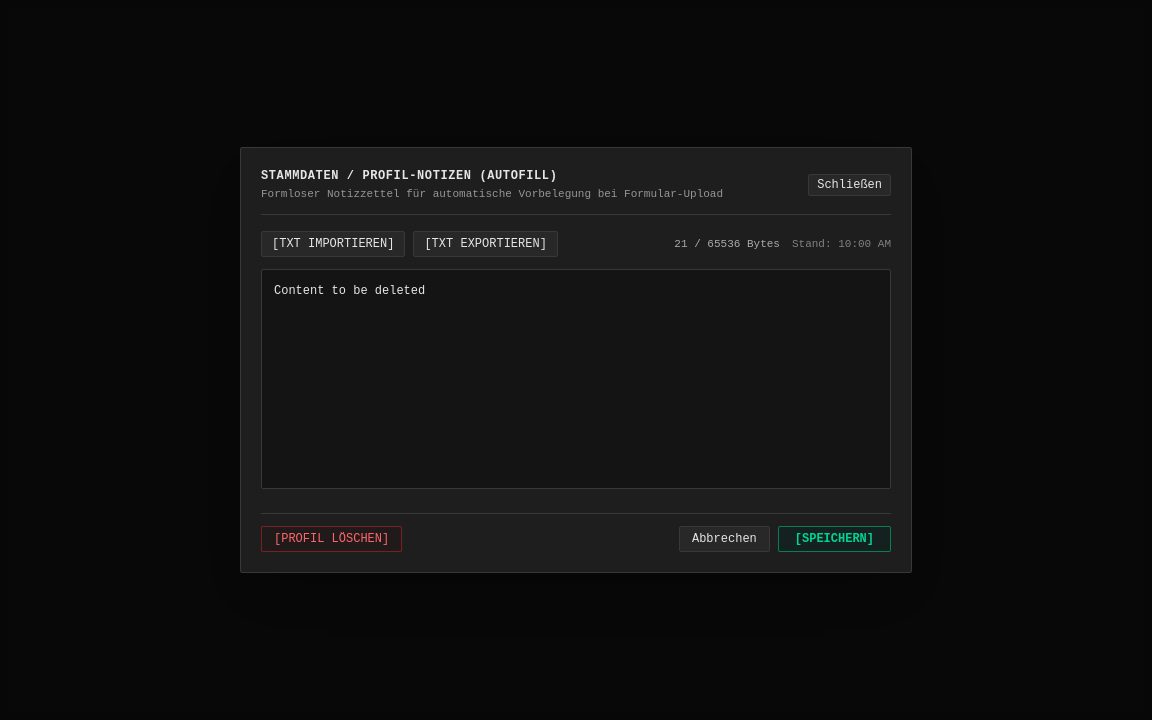
Test: UserProfileModal › deletes profile after user confirmation
Check: the text box named "stammdaten notizzettel" holds "Content to be deleted", box [261,269,891,489]
Click the button "[PROFIL LÖSCHEN]" at (332, 539), box [261,526,402,552]
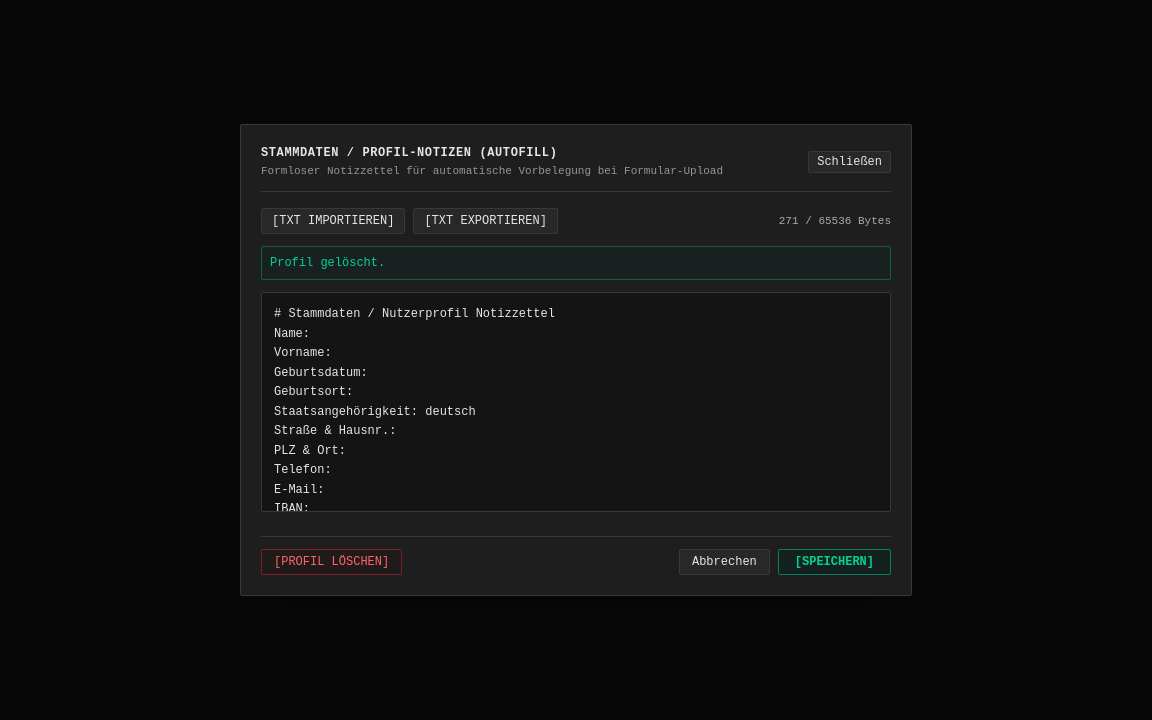
Check: the text "Profil gelöscht." is shown, box [261,246,891,280]
